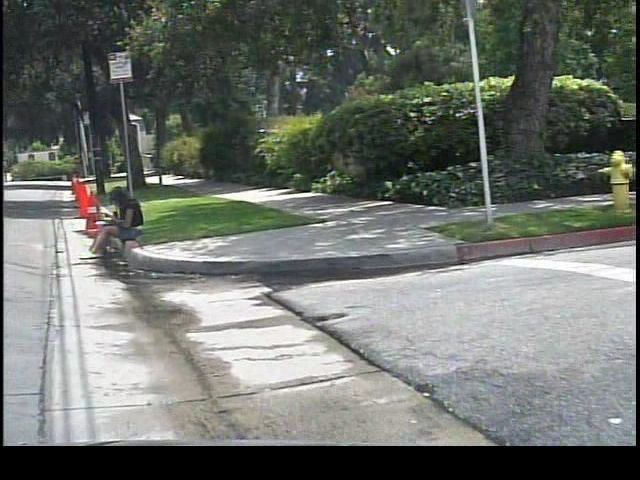person: (76, 184, 151, 262)
